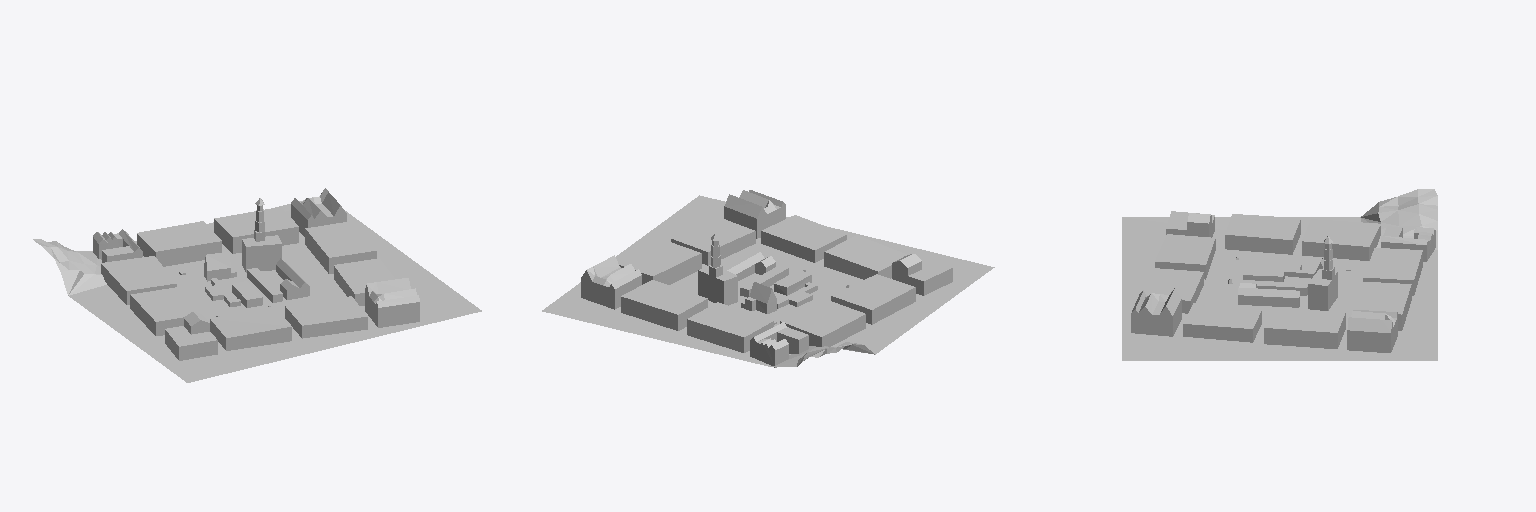
File: new-poznan.obj
3 renders of one model, left to right at view 1: azimuth 30°, elevation 25°; view 2: azimuth 150°, elevation 25°; view 3: azimuth 270°, elevation 25°, orthographic.
Size of the model in its own units: 131 by 28.96 by 122.